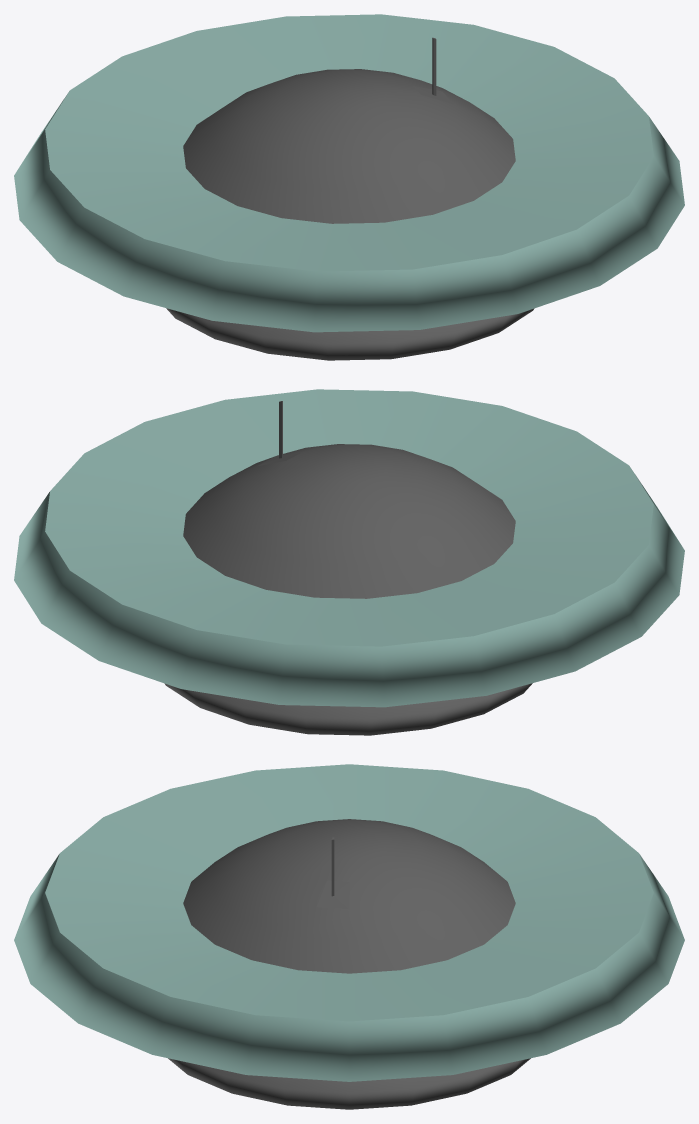
File: Drone 3.fbx
The picture shows the model from 3 angles, top to bottom: view 1: azimuth 30°, elevation 25°; view 2: azimuth 150°, elevation 25°; view 3: azimuth 270°, elevation 25°; orthographic projection.
Parts seen in each view (by area): view 1: pSphere39; view 2: pSphere39; view 3: pSphere39.
Boxes of the visible parts, bbox=[...] form: pSphere39: bbox=[14, 14, 684, 360]; pSphere39: bbox=[14, 389, 684, 735]; pSphere39: bbox=[14, 764, 684, 1109].
Bounding box in the file's own units: 309 × 114 × 309.
